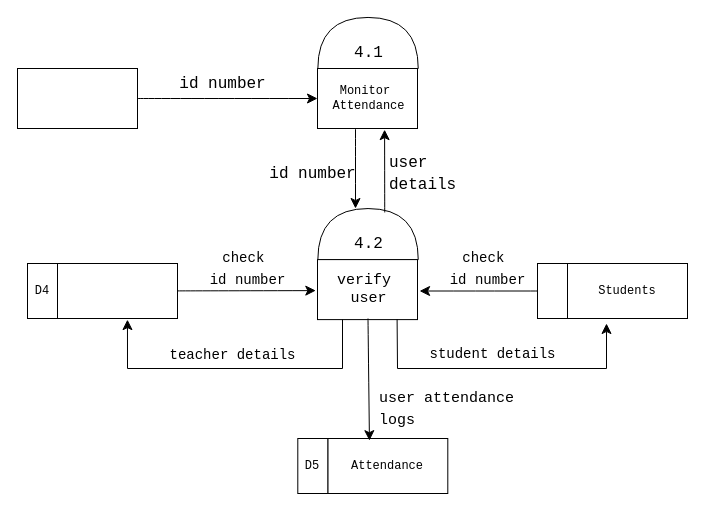
The diagram is 705 pixels wide and 512 high, and some of its shapes have lost their labels. The shapes that lost their labels are listed below. From the top down, each one's centre as x and y in pixels, then its label:
At pixel 77 98: "Library User".
At pixel 117 290: "Teachers".
At pixel 552 290: "D3".
